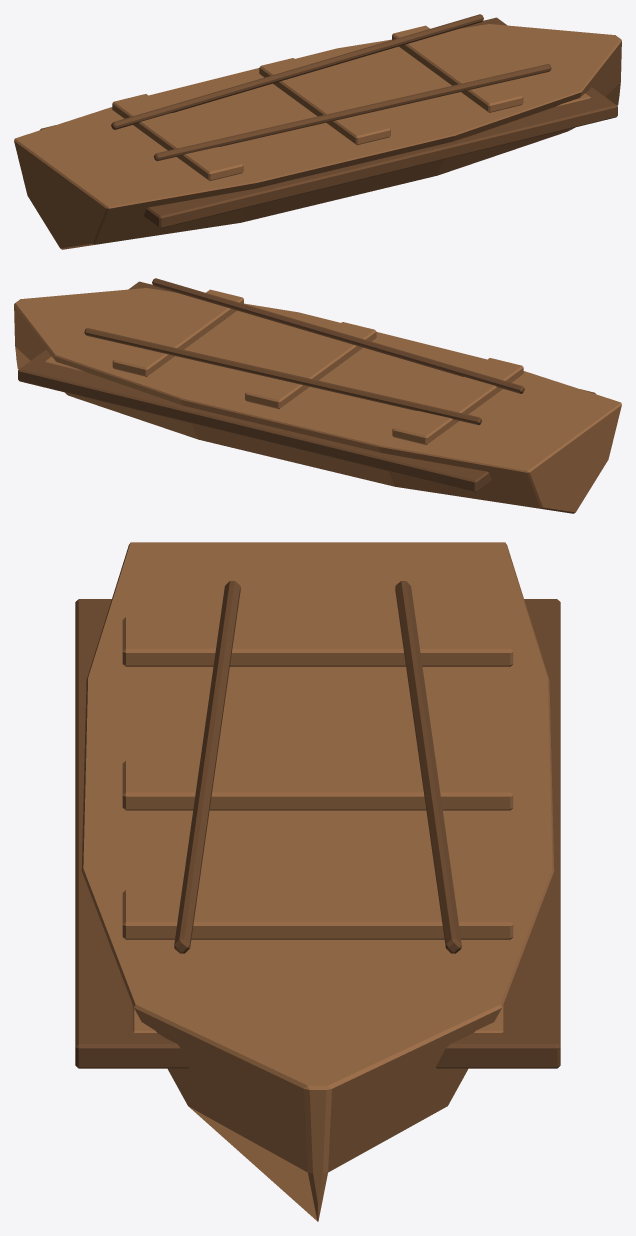
The model's file is eka.glb.
3 renders of one model, top to bottom at view 1: azimuth 30°, elevation 25°; view 2: azimuth 150°, elevation 25°; view 3: azimuth 270°, elevation 25°, orthographic. The views are drawn at different scales.
Parts seen in each view (by area): view 1: eka; view 2: eka; view 3: eka.
Boxes of the visible parts, x1,y1,x2,y2 form: eka: (14, 14, 621, 249); eka: (14, 278, 621, 513); eka: (75, 542, 560, 1221).
Bounding box in the file's own units: 3.8 × 0.719 × 1.43.
